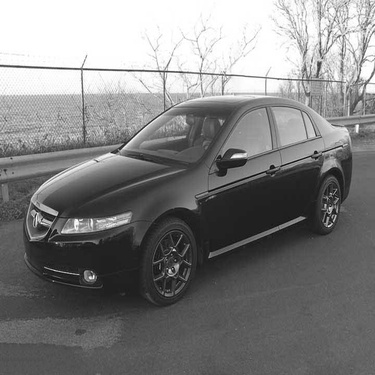car: (21, 82, 357, 310)
